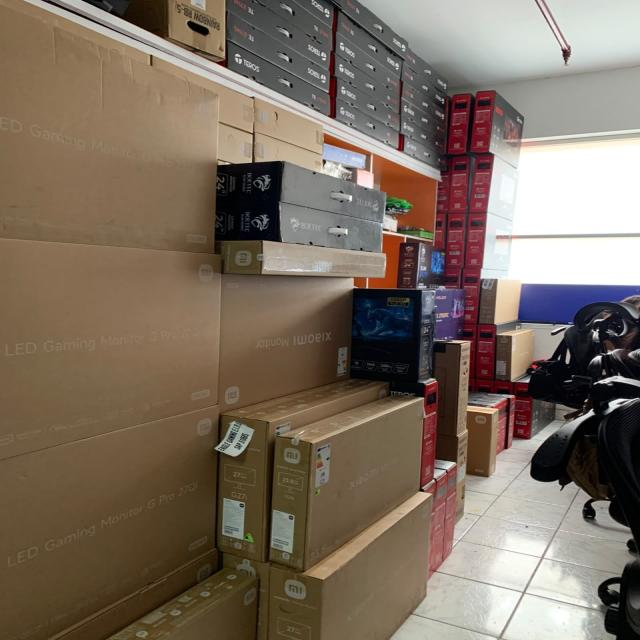caja-monitor: (0, 11, 216, 250), (4, 406, 219, 640), (0, 239, 224, 459), (217, 376, 389, 562), (269, 397, 423, 569), (269, 489, 433, 640), (222, 274, 352, 412), (218, 161, 384, 222), (112, 568, 258, 635), (217, 202, 384, 252), (351, 288, 436, 385), (226, 13, 330, 92), (226, 43, 331, 113), (226, 2, 331, 71), (218, 241, 387, 277), (391, 379, 436, 485), (336, 12, 402, 77), (471, 91, 524, 169), (339, 0, 409, 59), (254, 99, 325, 155), (336, 34, 400, 96), (330, 78, 400, 132), (334, 55, 399, 113), (258, 2, 331, 50), (434, 339, 470, 436), (470, 156, 523, 221), (331, 99, 399, 148), (437, 429, 468, 522), (476, 319, 522, 380), (465, 213, 514, 269), (514, 375, 556, 439), (469, 391, 515, 449), (254, 135, 324, 172), (463, 270, 508, 324), (466, 406, 500, 477), (398, 242, 446, 288), (403, 48, 449, 95), (401, 63, 447, 109), (494, 329, 533, 381), (478, 280, 521, 324), (401, 82, 446, 124), (435, 459, 454, 558), (401, 99, 445, 140), (399, 136, 448, 172), (448, 93, 475, 155), (401, 117, 444, 154), (433, 467, 448, 572), (219, 123, 254, 165), (450, 157, 472, 213), (435, 290, 466, 325), (446, 214, 466, 268), (294, 0, 334, 25), (462, 324, 476, 378), (435, 214, 446, 248), (444, 270, 461, 289), (475, 379, 493, 393), (494, 381, 513, 394), (469, 378, 475, 391)
